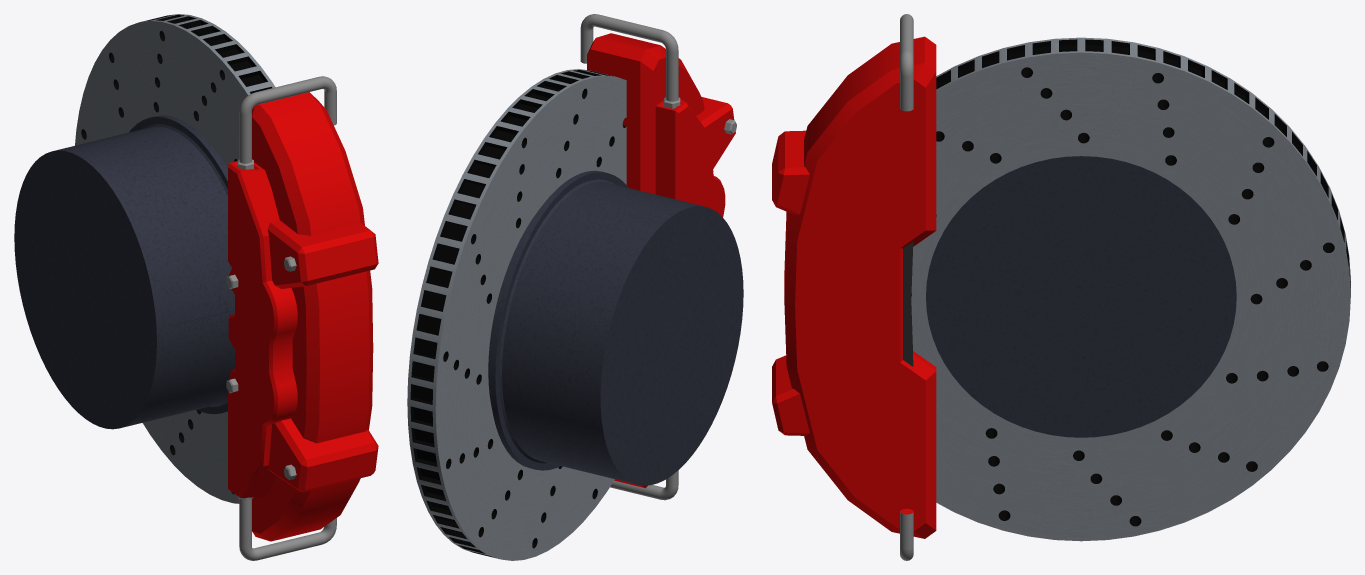
The model's file is brake-assembly.gltf.
3 views of the same model, side by side, from view 1: azimuth 30°, elevation 25°; view 2: azimuth 150°, elevation 25°; view 3: azimuth 270°, elevation 25° (orthographic). The views are drawn at different scales.
Parts seen in each view (by area): view 1: Brake_Disc_1, Brake_Caliper_2; view 2: Brake_Disc_1, Brake_Caliper_2; view 3: Brake_Disc_1, Brake_Caliper_2, Brake_Pads_0.
Part boxes in pixels (x1,y1,x2,y2): Brake_Disc_1: (14,14,275,503); Brake_Caliper_2: (226,76,378,560); Brake_Disc_1: (407,69,743,560); Brake_Caliper_2: (580,14,736,500); Brake_Disc_1: (911,37,1350,541); Brake_Caliper_2: (772,14,936,560); Brake_Pads_0: (903,241,913,366).
Size of the model in its own units: 0.1238 by 0.3244 by 0.3342.
Materials: 6 (2 with a texture image).
